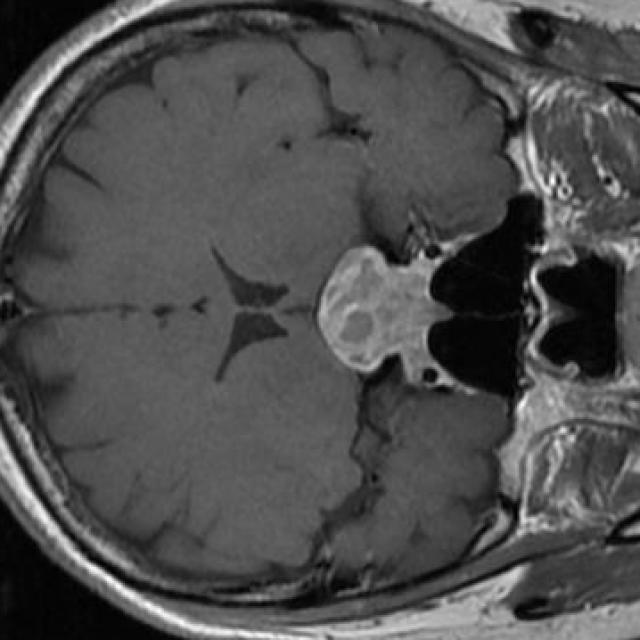pituitary: (316, 246, 449, 376)
